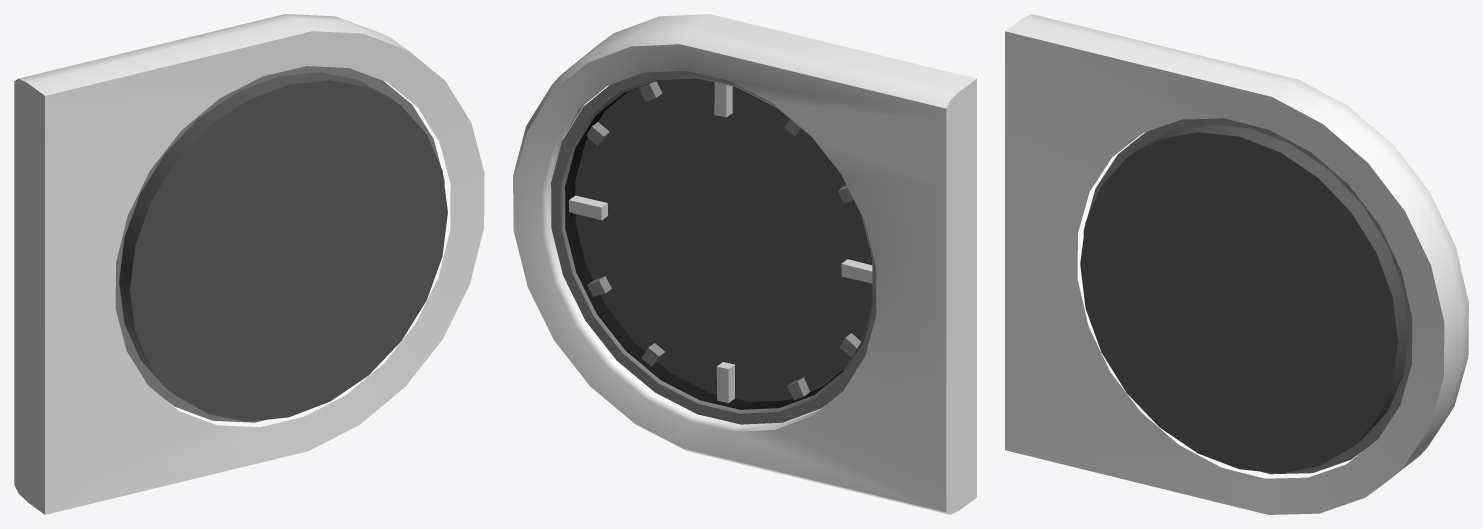
File: time_panel.glb
3 renders of one model, left to right at view 1: azimuth 30°, elevation 25°; view 2: azimuth 150°, elevation 25°; view 3: azimuth 330°, elevation 25°, orthographic.
Parts seen in each view (by area): view 1: clock_panel; view 2: clock_panel; view 3: clock_panel.
Part boxes in pixels (x1,y1,x2,y2): clock_panel: (14, 14, 484, 514); clock_panel: (513, 14, 976, 514); clock_panel: (1005, 14, 1468, 514).
Bounding box in the file's own units: 0.7505 × 0.6846 × 0.105.
1 material, 1 textured.
